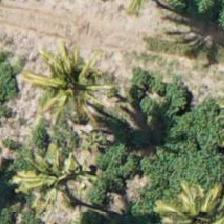coconut_tree: (30, 35, 120, 125), (11, 137, 101, 223)
